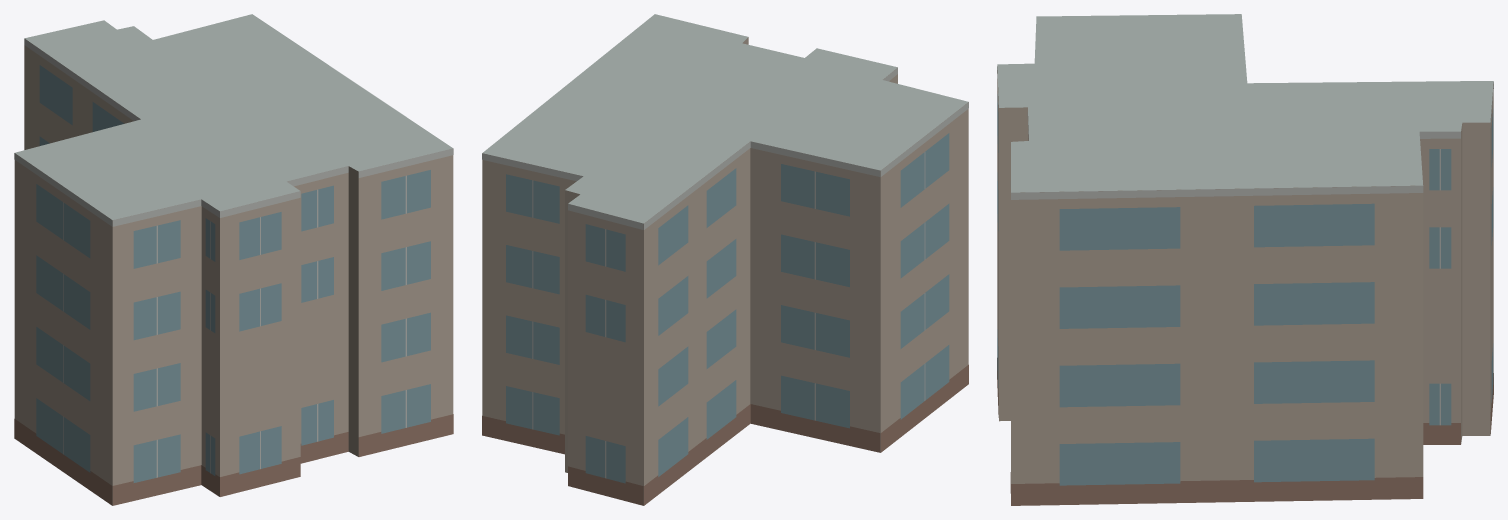
Rendered from survey-upis-32497191.glb.
3 renders of one model, left to right at view 1: azimuth 30°, elevation 25°; view 2: azimuth 150°, elevation 25°; view 3: azimuth 270°, elevation 25°, orthographic. The views are drawn at different scales.
Visible parts, largest first — view 1: survey-upis-32497191.tmp; view 2: survey-upis-32497191.tmp; view 3: survey-upis-32497191.tmp.
Boxes of the visible parts, left/top/right/bottom form: survey-upis-32497191.tmp: left=14, top=14, right=453, bottom=505; survey-upis-32497191.tmp: left=482, top=14, right=968, bottom=505; survey-upis-32497191.tmp: left=997, top=14, right=1493, bottom=505.
Bounding box in the file's own units: 12.73 × 10.4 × 14.95.
